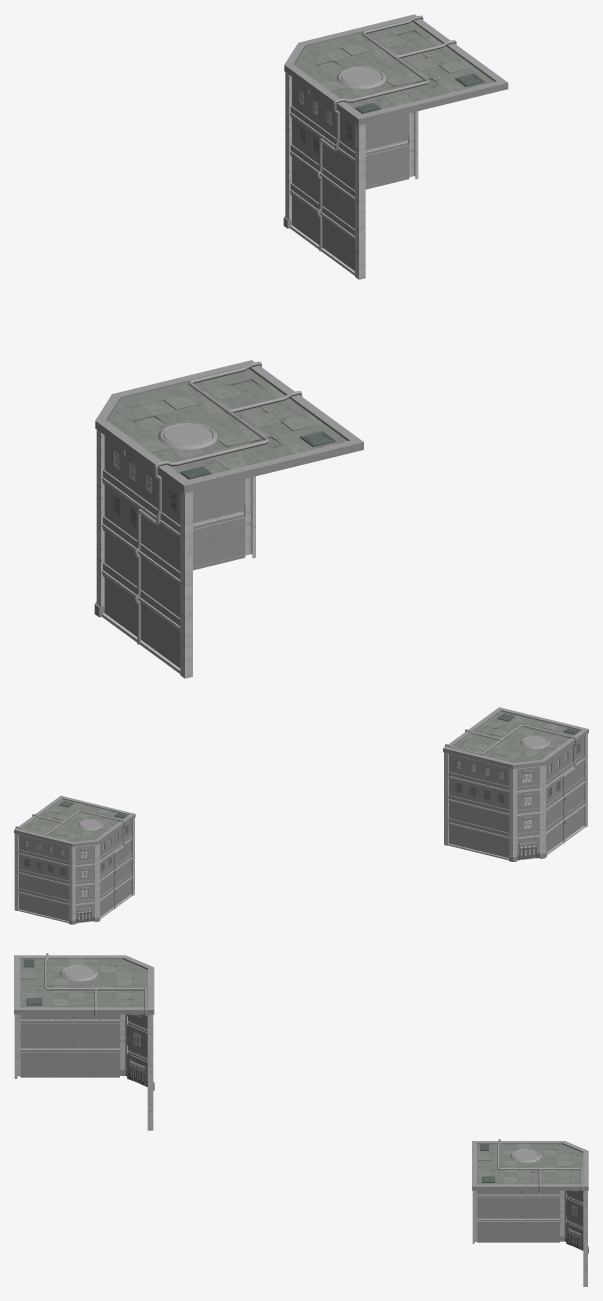
File: MERGED_SM_ENV_KNVLLG_CommonBuilding_G_3.mo.fbx
3 views of the same model, one above another, from view 1: azimuth 30°, elevation 25°; view 2: azimuth 150°, elevation 25°; view 3: azimuth 270°, elevation 25° (orthographic). The views are drawn at different scales.
Visible parts, largest first — view 1: MERGED_SM_ENV_KNVLLG_CommonBuilding_G_3.mo; view 2: MERGED_SM_ENV_KNVLLG_CommonBuilding_G_3.mo; view 3: MERGED_SM_ENV_KNVLLG_CommonBuilding_G_3.mo.
Part boxes in pixels (left/top/right/bottom): MERGED_SM_ENV_KNVLLG_CommonBuilding_G_3.mo: left=94, top=14, right=508, bottom=678; MERGED_SM_ENV_KNVLLG_CommonBuilding_G_3.mo: left=14, top=707, right=588, bottom=924; MERGED_SM_ENV_KNVLLG_CommonBuilding_G_3.mo: left=14, top=953, right=588, bottom=1286.
Size of the model in its own units: 113 by 30.69 by 129.
